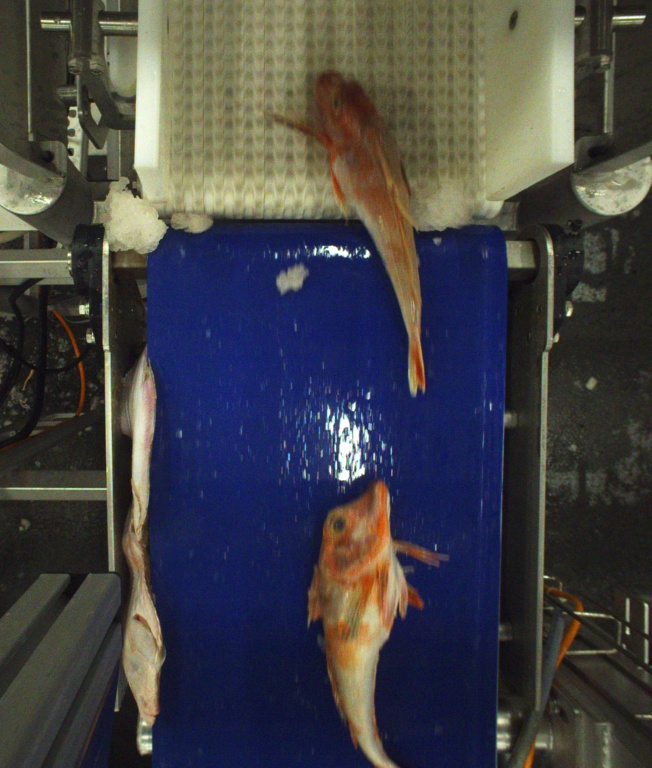GUU: (301, 479, 420, 768)
